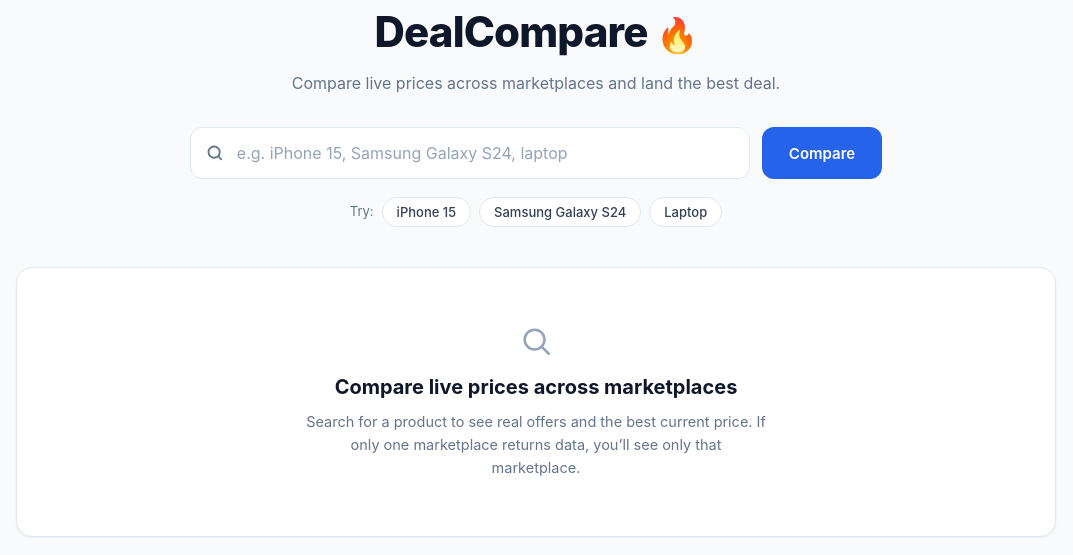
Test case: Home results experience › honestly reports empty results (no fake products or offers)
Type "zxqjkl" into the field named "Search products".
click(470, 153); type("zxqjkl")  # box left=190, top=127, right=750, bottom=179
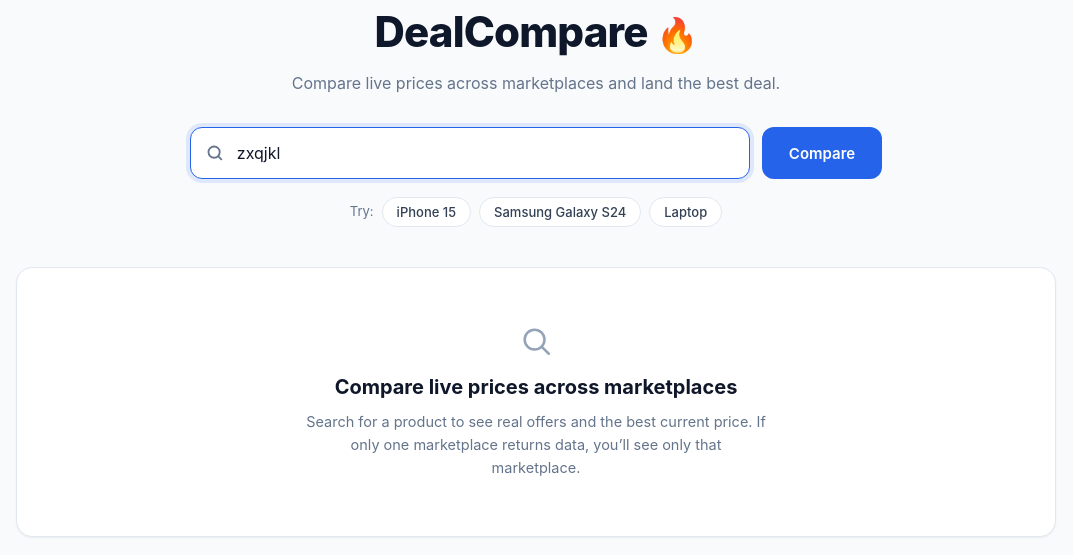
Click the button "Compare".
click(822, 153)  # box left=762, top=127, right=882, bottom=179
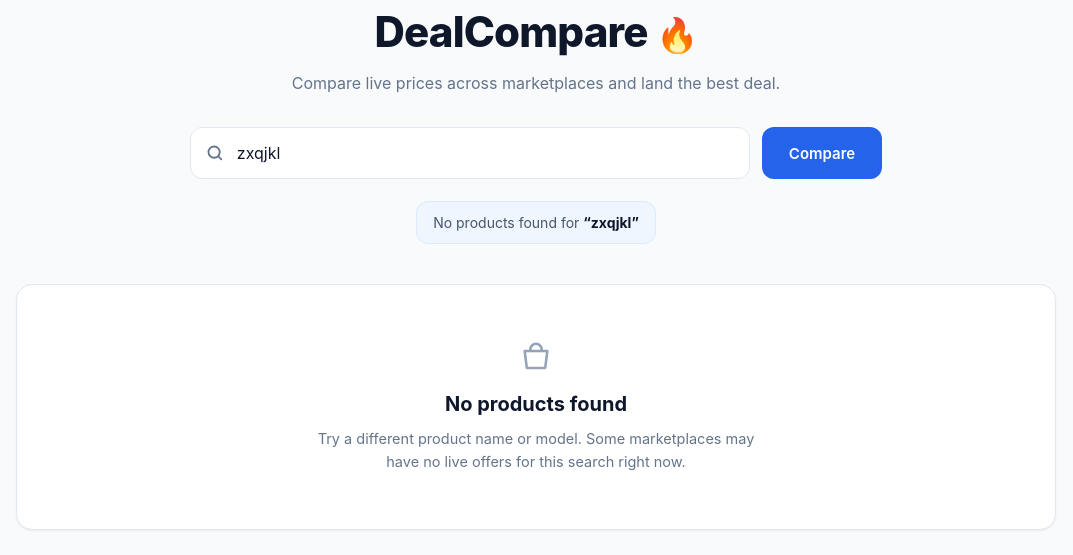
expect the heading "No products found" is shown: met, box left=445, top=392, right=627, bottom=416
